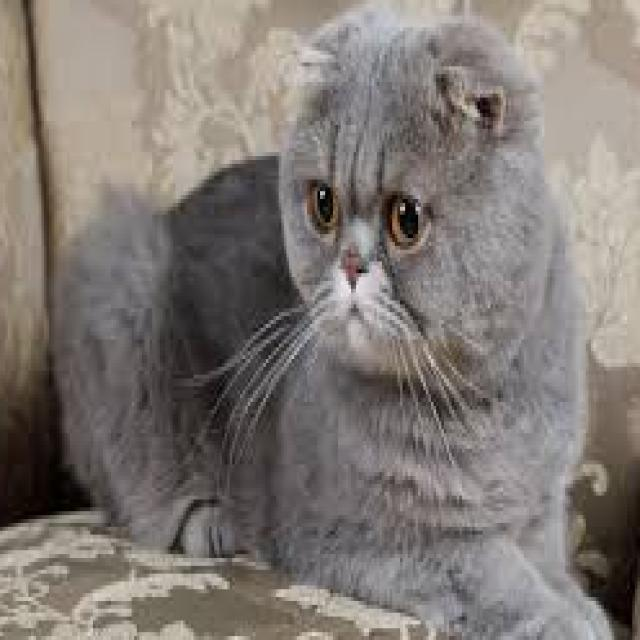Scottish Fold: (41, 4, 620, 640)
